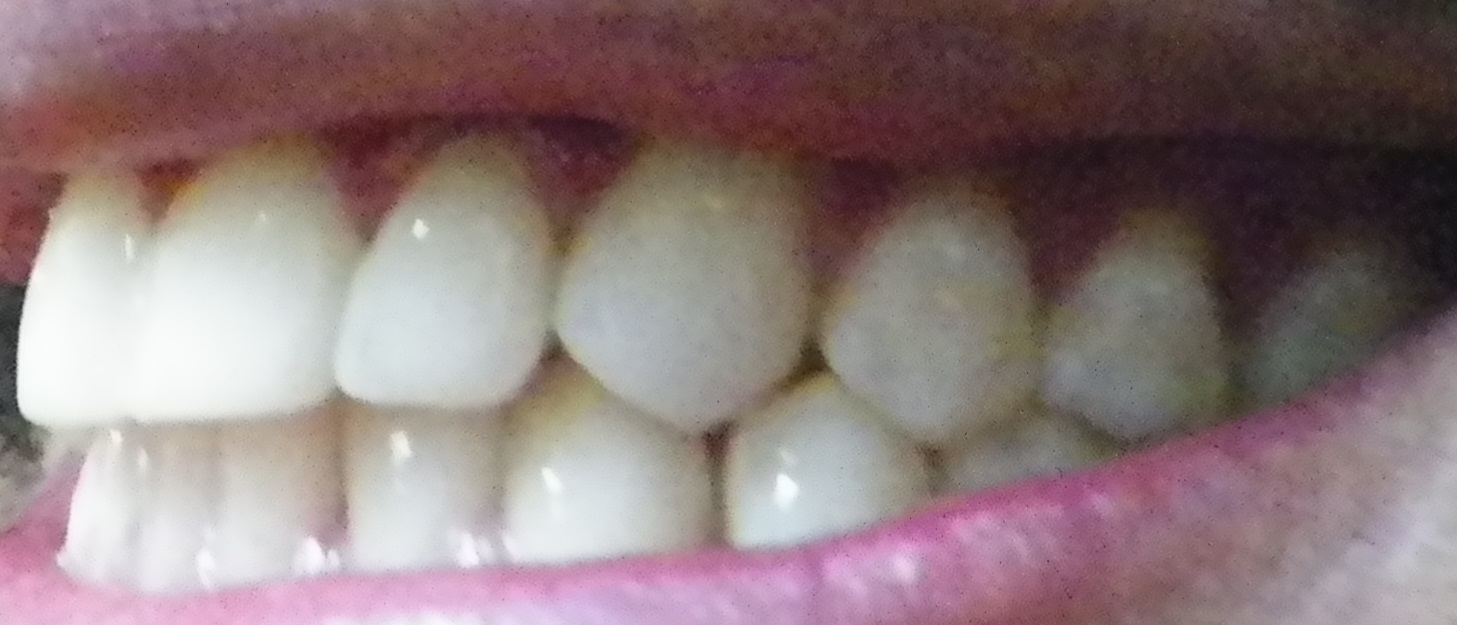boca: (9, 161, 1405, 591)
